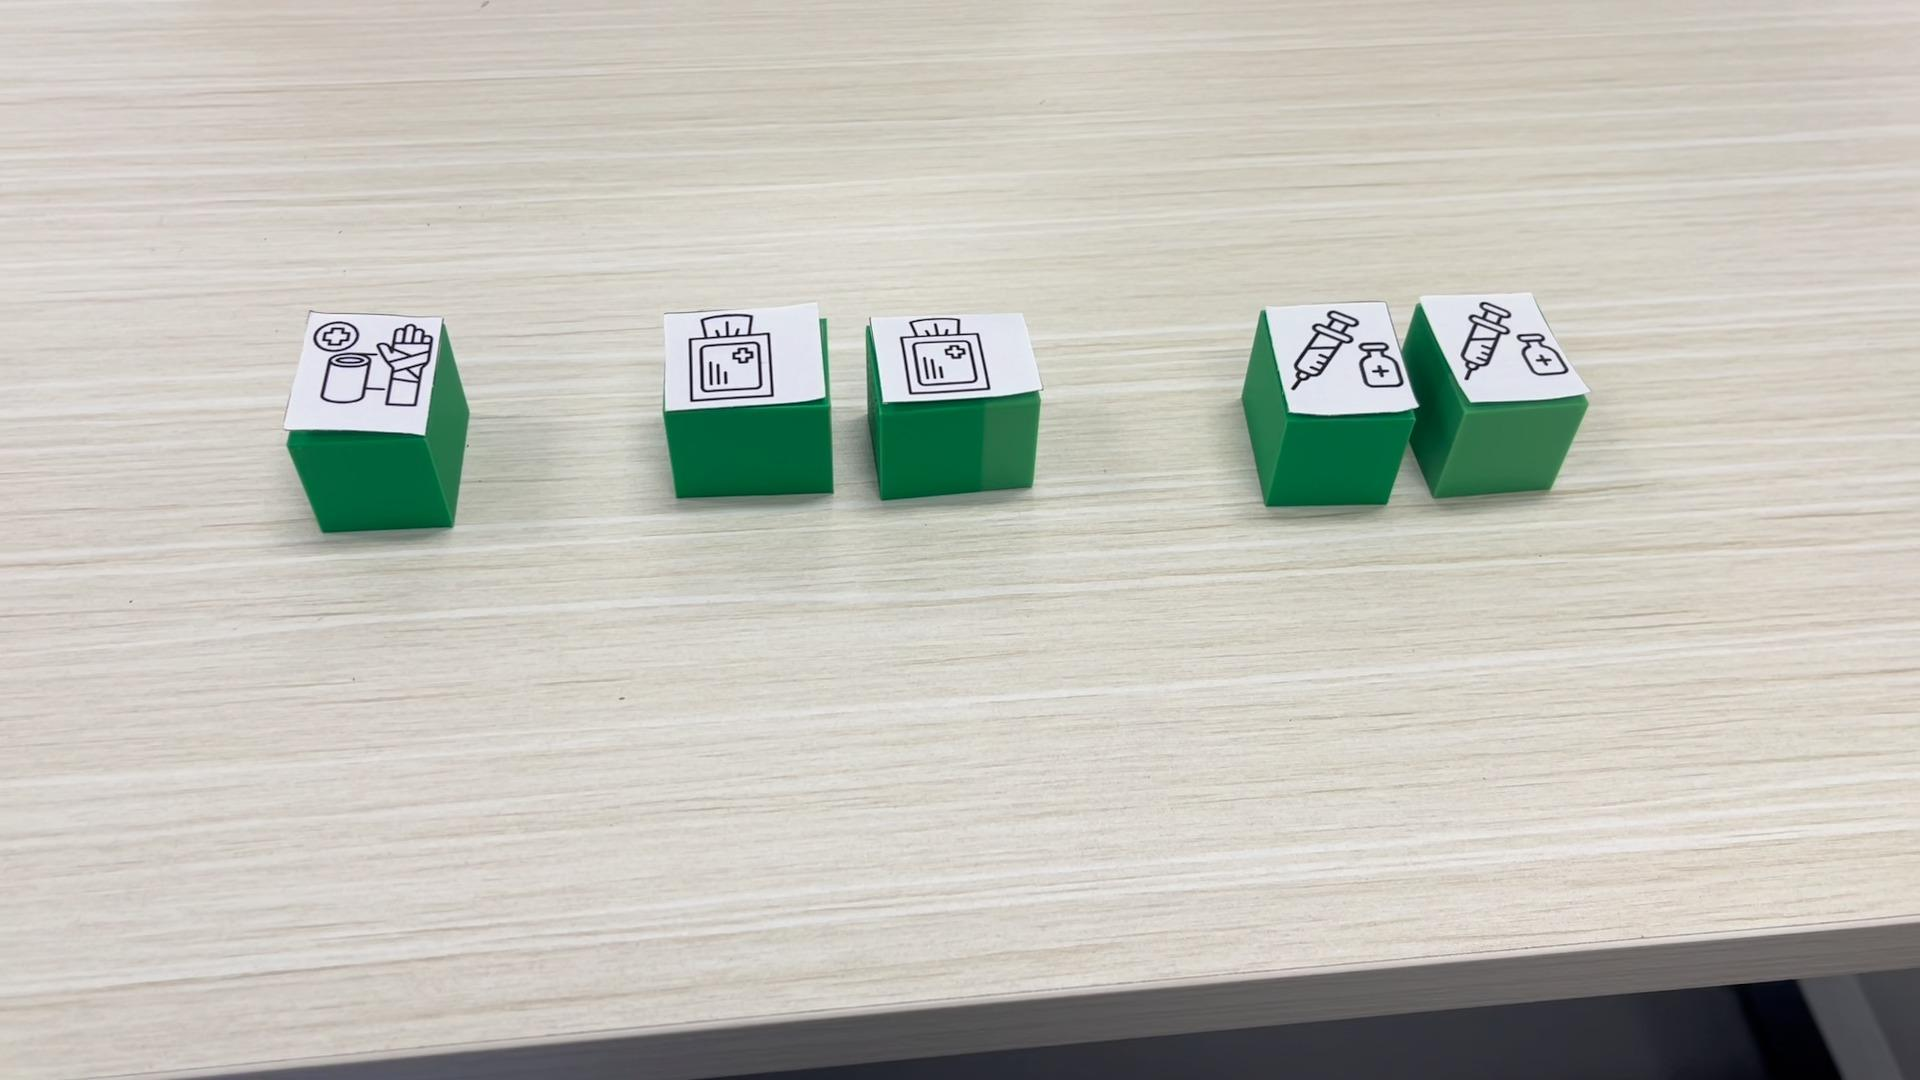Bandages: (284, 310, 467, 533)
Gauze: (865, 309, 1044, 501), (661, 301, 828, 498)
antiseptic cream: (1406, 289, 1590, 501), (1244, 302, 1418, 505)
